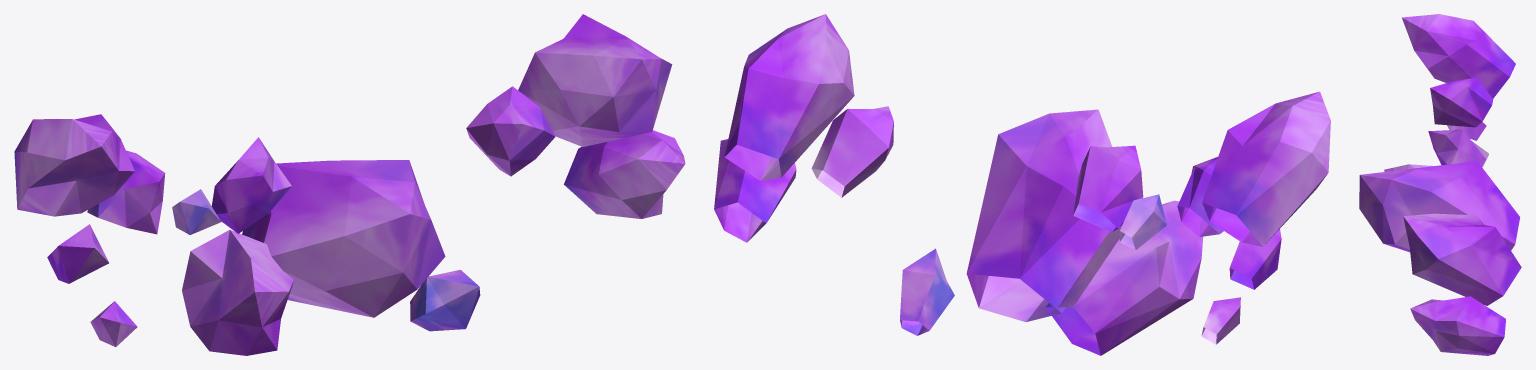
The model's file is rockface_natural_crystalcliff01_02.FBX.
The picture shows the model from 3 angles, left to right: view 1: azimuth 30°, elevation 25°; view 2: azimuth 150°, elevation 25°; view 3: azimuth 270°, elevation 25°; orthographic projection. The views are drawn at different scales.
Parts seen in each view (by area): view 1: rockface_natural_crystalcliff01_02; view 2: rockface_natural_crystalcliff01_02; view 3: rockface_natural_crystalcliff01_02.
Part boxes in pixels (x1,y1,x2,y2): rockface_natural_crystalcliff01_02: (14,14,685,355); rockface_natural_crystalcliff01_02: (714,14,1330,355); rockface_natural_crystalcliff01_02: (1359,14,1521,355).
Bounding box in the file's own units: 8.02 × 3.81 × 2.68.
